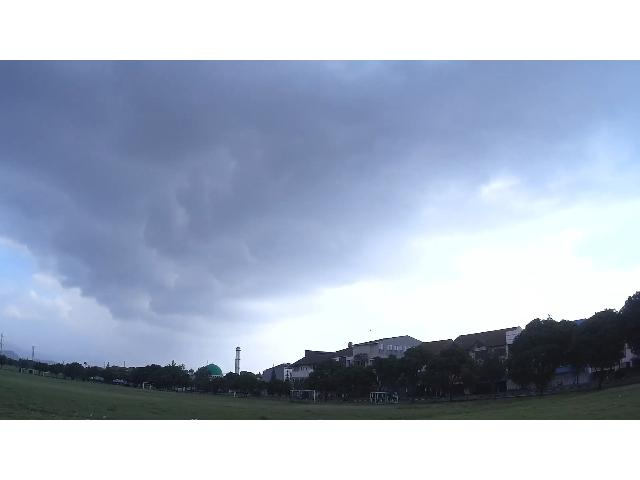Anti-Drone: (357, 325, 379, 338)
